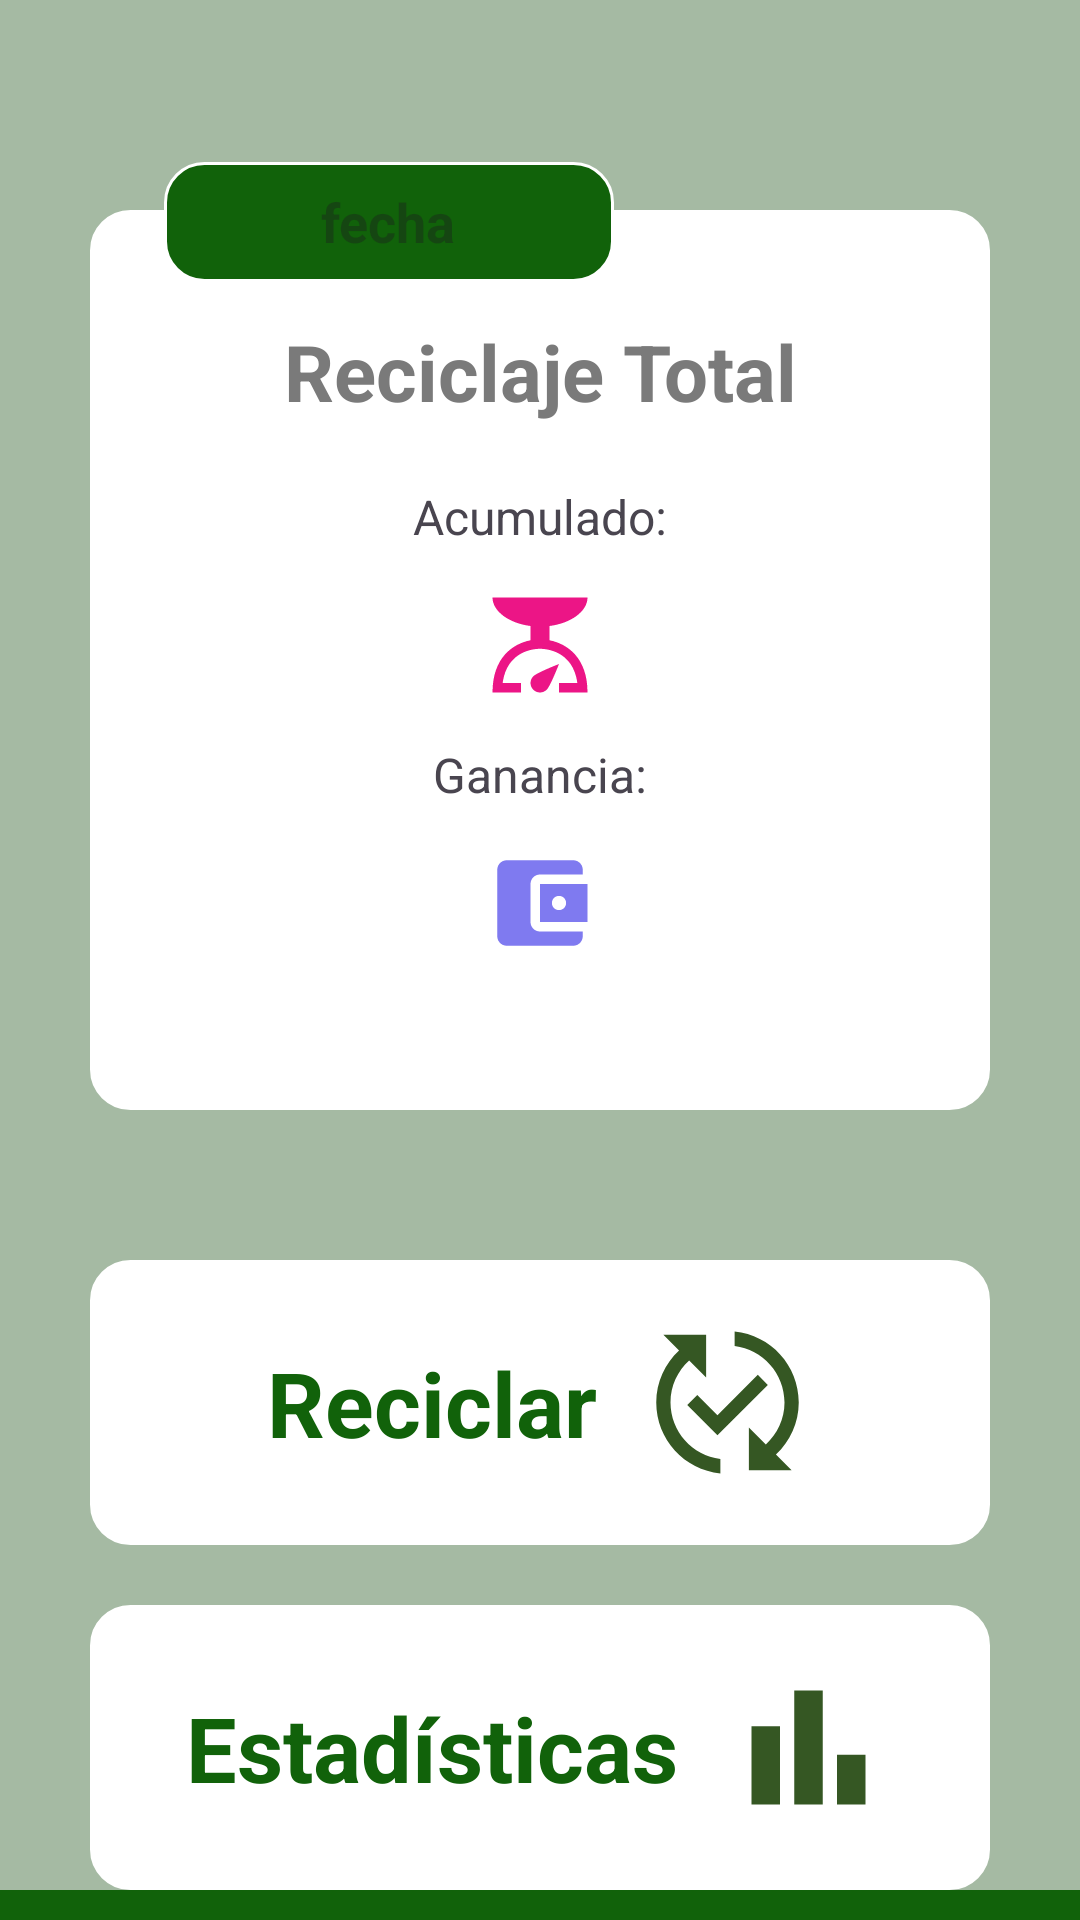

Point at icon controls on the screen. Image size 1080 × 1920, points as [x,y].
barras: [808,1747]
recicler: [727,1402]
scale: [540,645]
wallet: [542,903]
